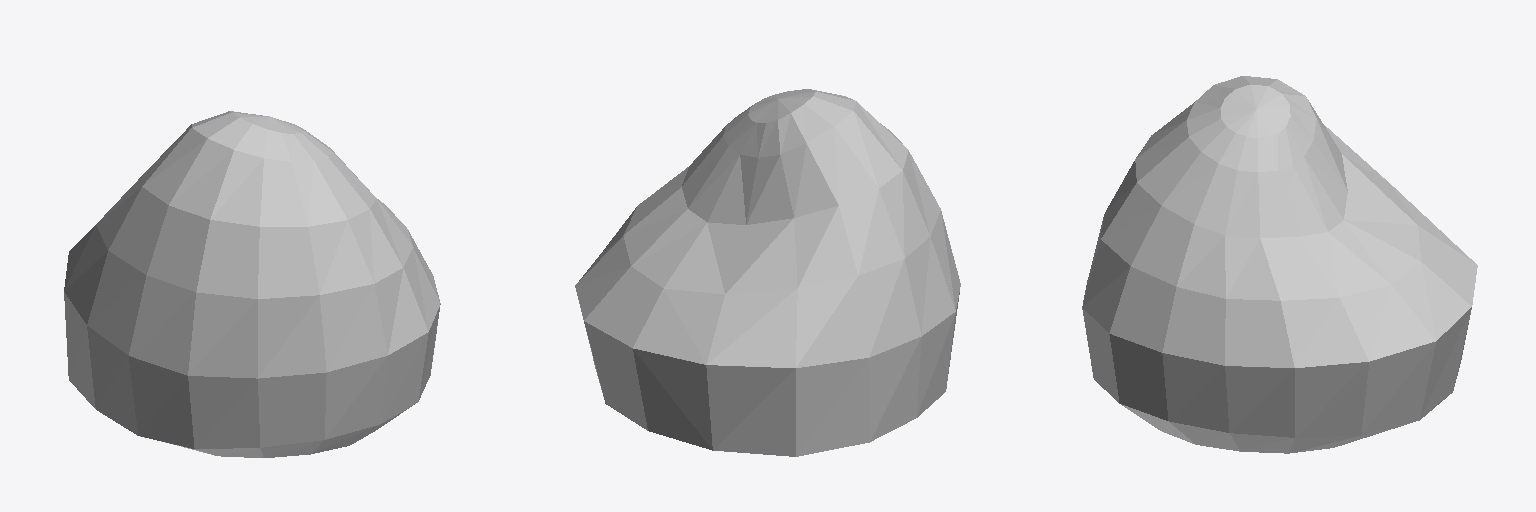
File: puff.obj
The picture shows the model from 3 angles: view 1: azimuth 30°, elevation 25°; view 2: azimuth 150°, elevation 25°; view 3: azimuth 270°, elevation 25°; orthographic projection.
Parts seen in each view (by area): view 1: Puff; view 2: Puff; view 3: Puff.
Boxes of the visible parts, x1=… form: Puff: x1=64, y1=111, x2=440, y2=457; Puff: x1=575, y1=89, x2=960, y2=456; Puff: x1=1082, y1=76, x2=1477, y2=453.
Size of the model in its own units: 1.2 by 1.12 by 1.28.